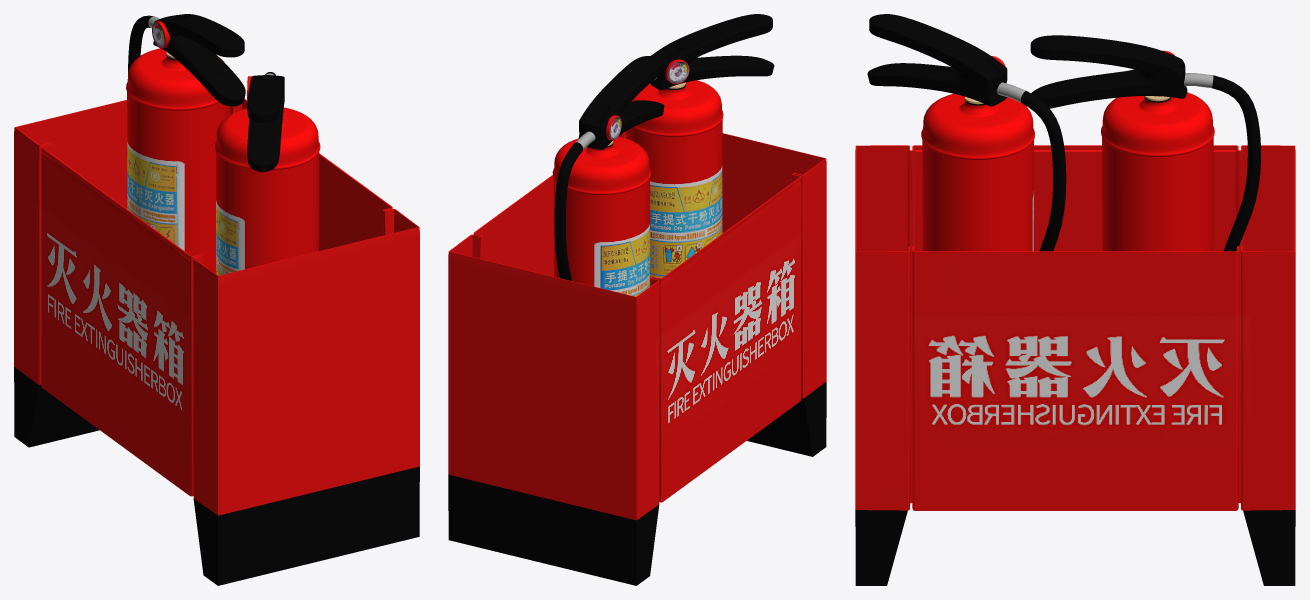
File: fireExtinguisher.gltf
3 views of the same model, side by side, from view 1: azimuth 30°, elevation 25°; view 2: azimuth 150°, elevation 25°; view 3: azimuth 270°, elevation 25° (orthographic). The views are drawn at different scales.
Visible parts, largest first — view 1: 消防_灭火器08; view 2: 消防_灭火器08; view 3: 消防_灭火器08.
Part boxes in pixels (bbox=[...]): 消防_灭火器08: bbox=[14, 14, 419, 585]; 消防_灭火器08: bbox=[448, 14, 826, 585]; 消防_灭火器08: bbox=[855, 14, 1295, 585].
Size of the model in its own units: 0.3383 by 0.7259 by 0.5896.
Materials: 9 (3 with a texture image).
